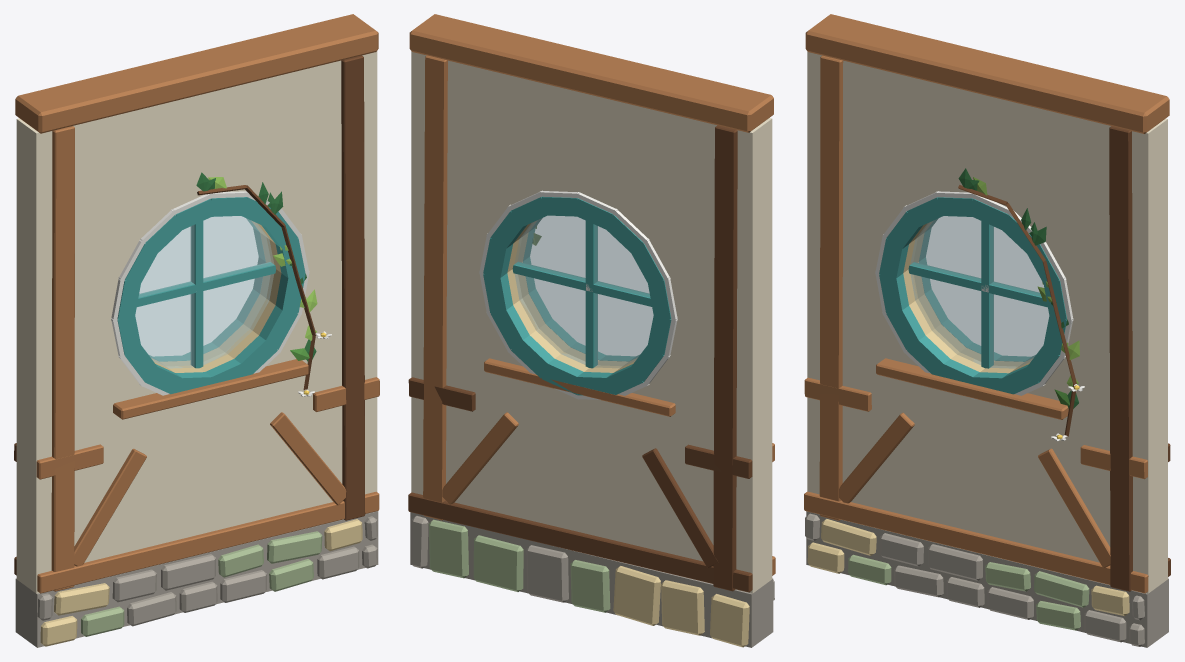
Rendered from wall_round_window.glb.
The picture shows the model from 3 angles, left to right: view 1: azimuth 30°, elevation 25°; view 2: azimuth 150°, elevation 25°; view 3: azimuth 330°, elevation 25°; orthographic projection.
Parts seen in each view (by area): view 1: Wall Round Window; view 2: Wall Round Window; view 3: Wall Round Window.
Part boxes in pixels (box(x1,y1,x2,y2)): Wall Round Window: box(14, 14, 379, 647); Wall Round Window: box(408, 14, 775, 647); Wall Round Window: box(804, 14, 1170, 647).
Bounding box in the file's own units: 2 × 3 × 0.3839.
Materials: 2 (1 with a texture image).
